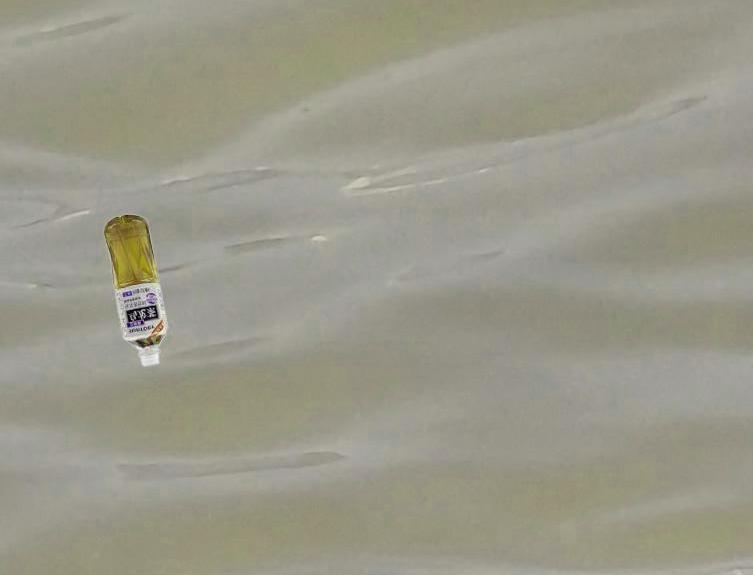Plastic: (103, 212, 171, 372)
